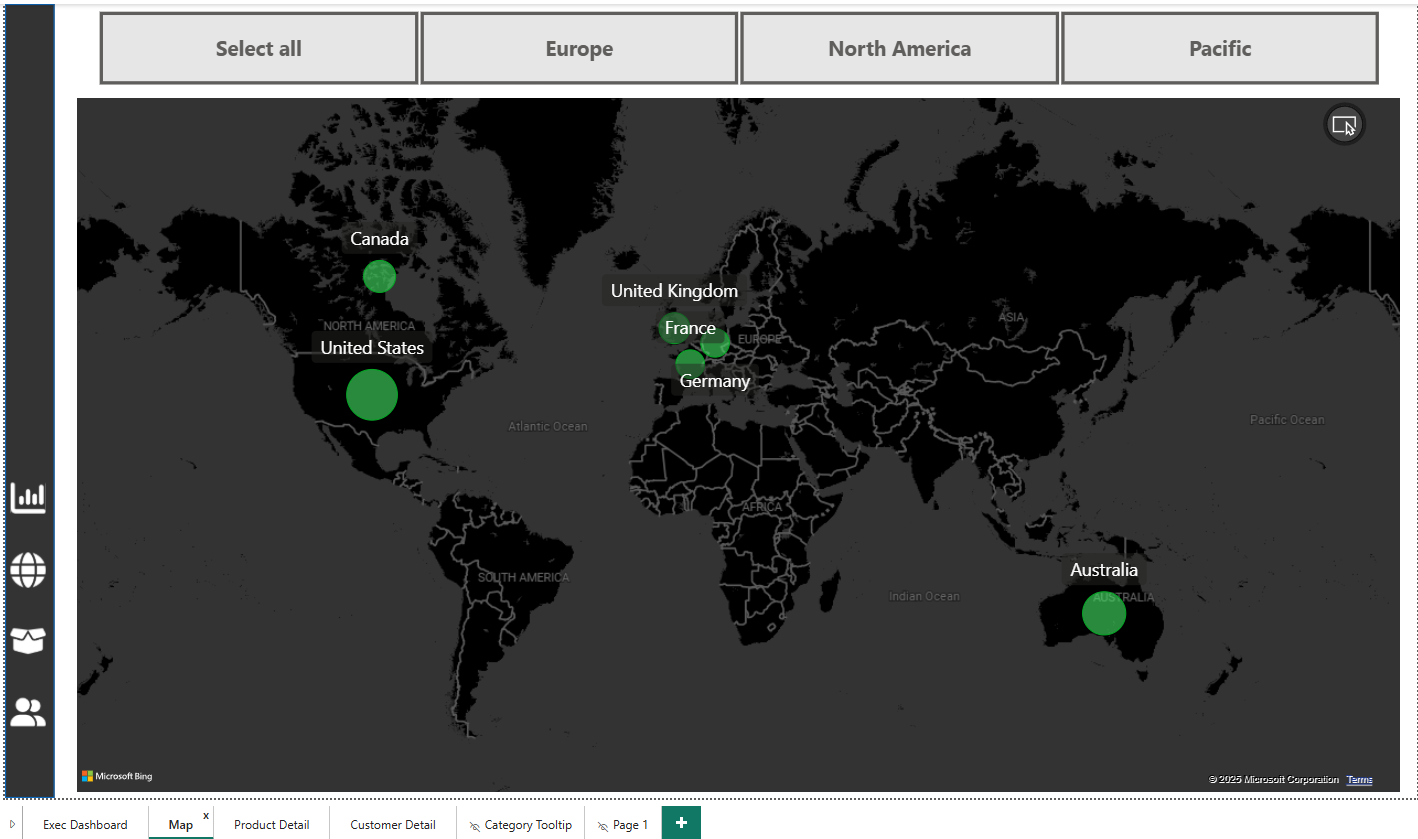

This screenshot's page, from the dashboard's own definition file:
{"tool":"powerbi","page":{"name":"Map","canvas":[1280,720],"ordinal":1},"visuals":[{"type":"shape","box":[0,0,45,720.2],"z":0},{"type":"map","fields":{"Category":["Territory Lookup.Country"],"Size":["Measure.Total Orders"]},"box":[59.4,79.9,1210.4,640.3],"z":1000},{"type":"slicer","fields":{"Values":["Territory Lookup.Continent"]},"box":[59.4,0,1210.4,79.9],"z":2000},{"type":"actionButton","box":[0.5,428.4,44.8,40.4],"z":3000},{"type":"actionButton","box":[0.5,492.9,44.8,40.4],"z":4000},{"type":"actionButton","box":[0.5,557.4,44.8,40.4],"z":5000},{"type":"actionButton","box":[0.5,621.9,44.8,40.4],"z":6000}]}

Visuals, with their boxes in screenshot pixels (x1, y1, x2, y2):
shape: 4:4:53:791
map - Territory Lookup.Country x Measure.Total Orders: 69:91:1391:791
slicer - Territory Lookup.Continent: 69:4:1391:91
actionButton: 4:472:53:516
actionButton: 4:542:53:586
actionButton: 4:613:53:657
actionButton: 4:683:53:727
